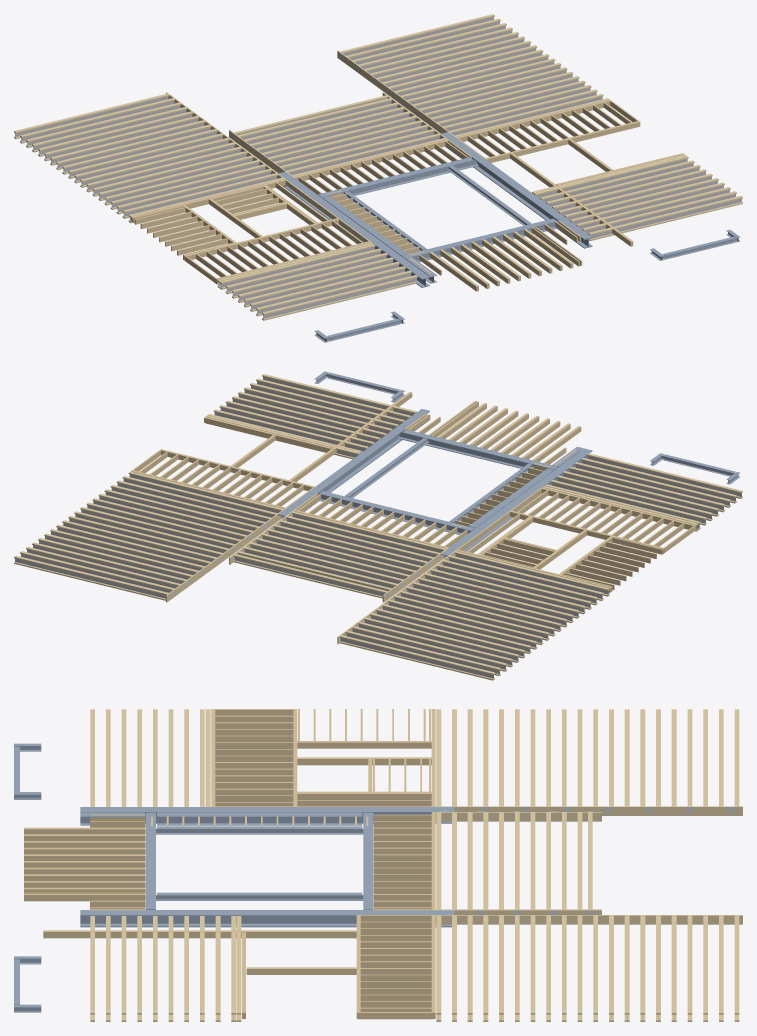
The model's file is stage-4.glb.
3 views of the same model, one above another, from view 1: azimuth 30°, elevation 25°; view 2: azimuth 150°, elevation 25°; view 3: azimuth 270°, elevation 25° (orthographic). The views are drawn at different scales.
Visible parts, largest first — view 1: Geom3D (×4); view 2: Geom3D (×4); view 3: Geom3D (×3), Geom3D_ICFVL-CW + ICFLC (Simpson Strong-Tie).
Part boxes in pixels (x1,y1,x2,y2): Geom3D (×4): [14, 14, 742, 342]; Geom3D (×4): [14, 371, 742, 680]; Geom3D (×3): [14, 709, 742, 1021]; Geom3D_ICFVL-CW + ICFLC (Simpson Strong-Tie): [440, 807, 734, 924].
Bounding box in the file's own units: 18.32 × 0.5566 × 18.58.
